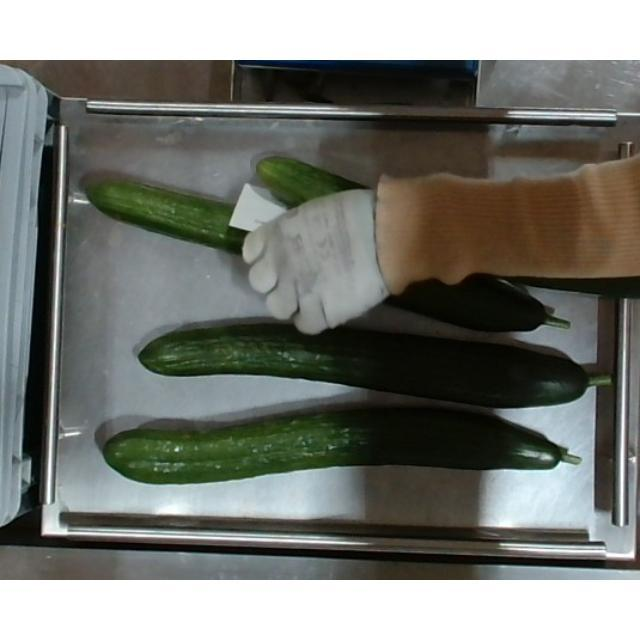cucumber: (81, 174, 571, 336), (256, 152, 640, 298), (141, 315, 619, 409), (100, 399, 580, 487)
